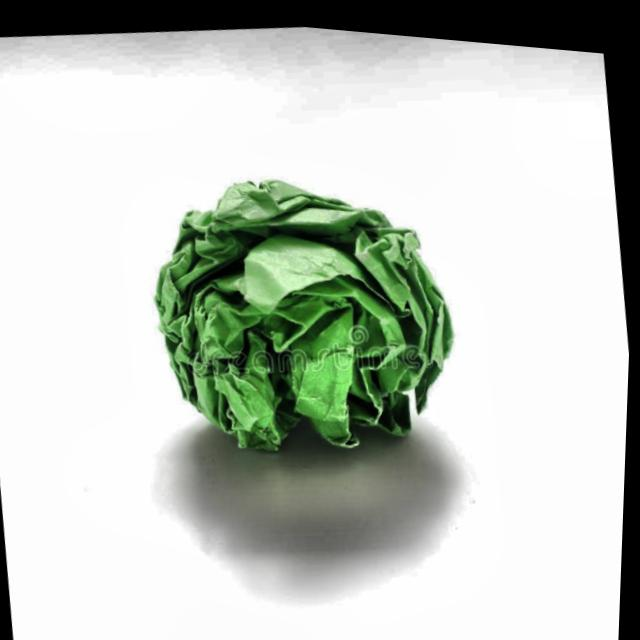Paper: (154, 172, 458, 448)
